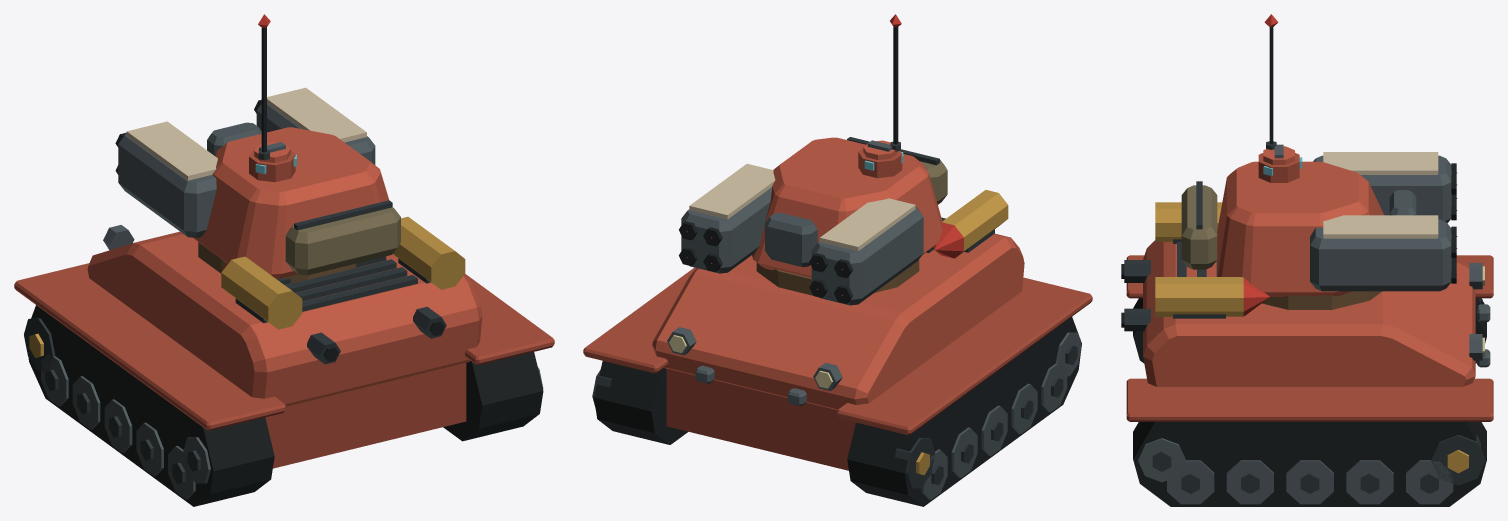
The picture shows the model from 3 angles, left to right: view 1: azimuth 30°, elevation 25°; view 2: azimuth 150°, elevation 25°; view 3: azimuth 270°, elevation 25°; orthographic projection. The views are drawn at different scales.
Parts seen in each view (by area): view 1: hull_04, turret_04; view 2: hull_04, turret_04; view 3: hull_04, turret_04.
Boxes of the visible parts, left/top/right/bottom form: hull_04: left=14, top=216, right=554, bottom=506; turret_04: left=115, top=14, right=400, bottom=283; hull_04: left=583, top=190, right=1092, bottom=506; turret_04: left=679, top=14, right=947, bottom=305; hull_04: left=1121, top=202, right=1493, bottom=506; turret_04: left=1181, top=14, right=1457, bottom=309.
Size of the model in its own units: 0.855 by 0.9938 by 0.842.
